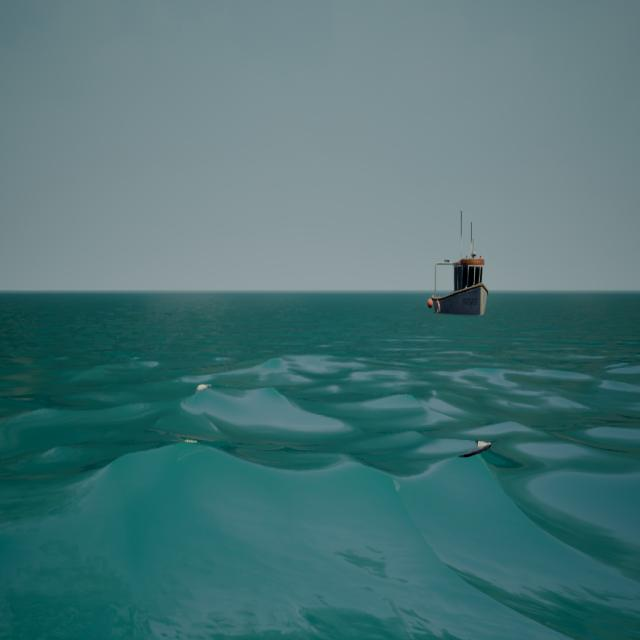ship: (424, 207, 490, 319)
